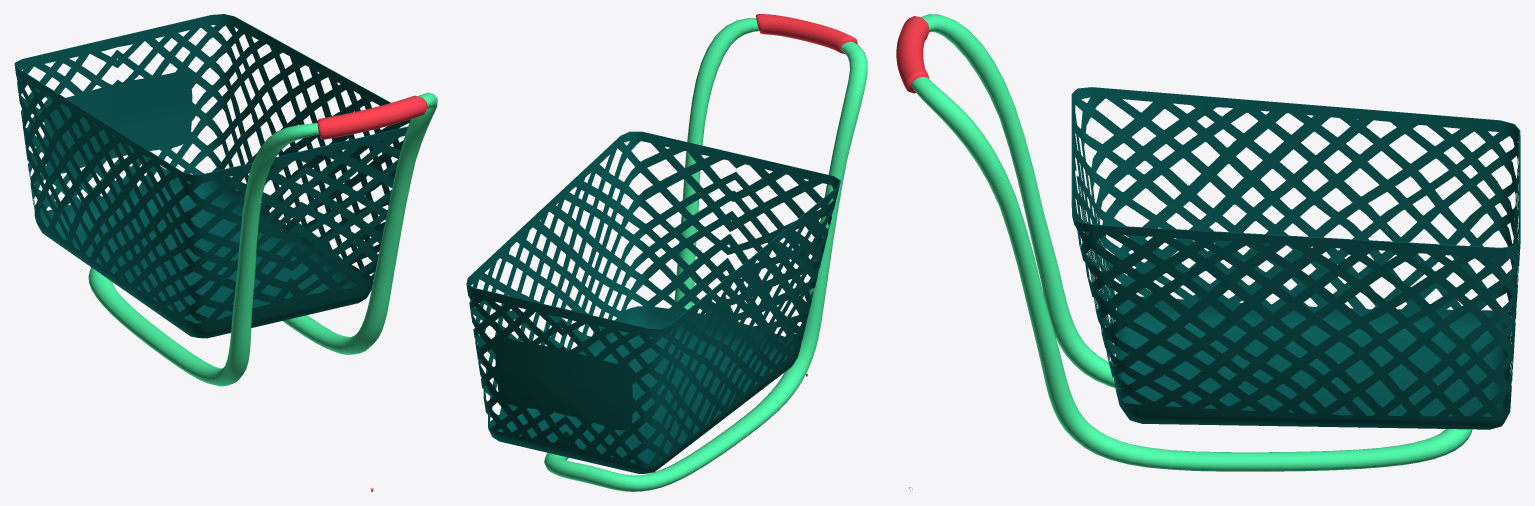
Rendered from cart.fbx.
The picture shows the model from 3 angles, left to right: view 1: azimuth 30°, elevation 25°; view 2: azimuth 150°, elevation 25°; view 3: azimuth 270°, elevation 25°; orthographic projection. The views are drawn at different scales.
Parts seen in each view (by area): view 1: Cart.Mesh, Frame, handle; view 2: Cart.Mesh, Frame, handle; view 3: Cart.Mesh, Frame, handle.
Boxes of the visible parts, left/top/right/bottom form: Cart.Mesh: left=14, top=14, right=410, bottom=338; Frame: left=88, top=92, right=437, bottom=386; handle: left=317, top=95, right=427, bottom=139; Cart.Mesh: left=466, top=131, right=840, bottom=473; Frame: left=544, top=18, right=867, bottom=491; handle: left=756, top=14, right=857, bottom=53; Cart.Mesh: left=1071, top=87, right=1520, bottom=429; Frame: left=911, top=14, right=1472, bottom=471; handle: left=896, top=16, right=929, bottom=93.
Size of what is drawn, in the model's own units: 69.14 by 107 by 135.
